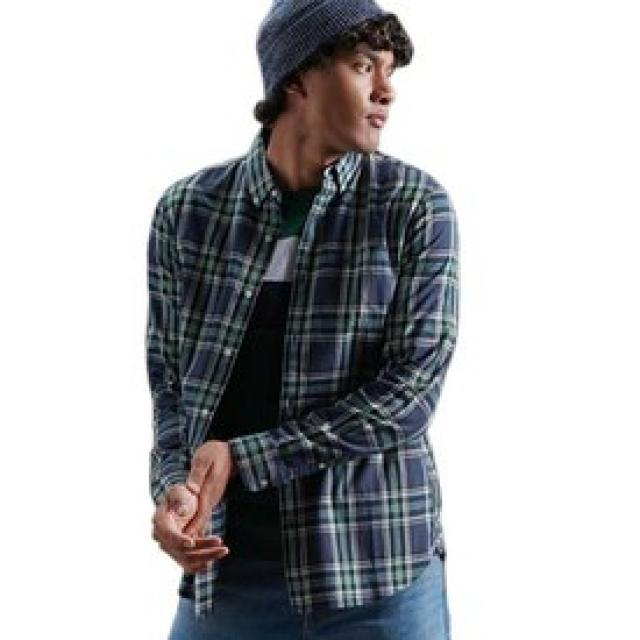plaid: (101, 157, 497, 596)
